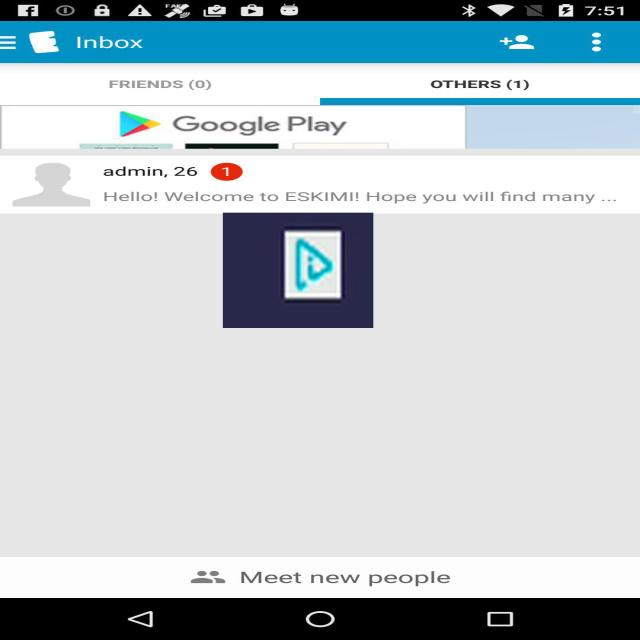sneaking: (223, 213, 373, 328)
